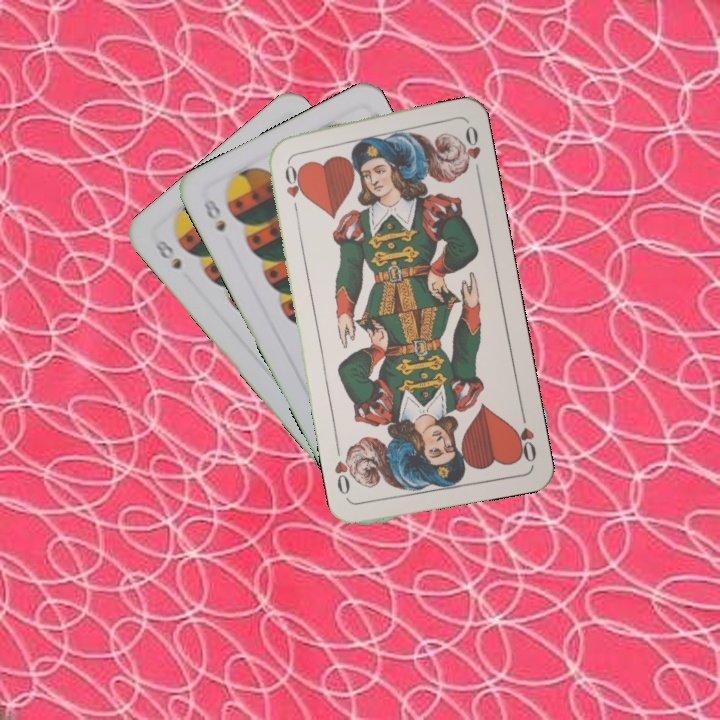HO: (510, 407, 539, 465), (280, 155, 305, 214)
S8: (150, 236, 185, 273), (199, 195, 228, 235)
